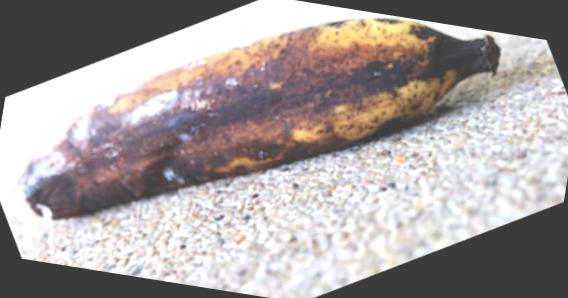Banana Overripe: (0, 0, 523, 298)
